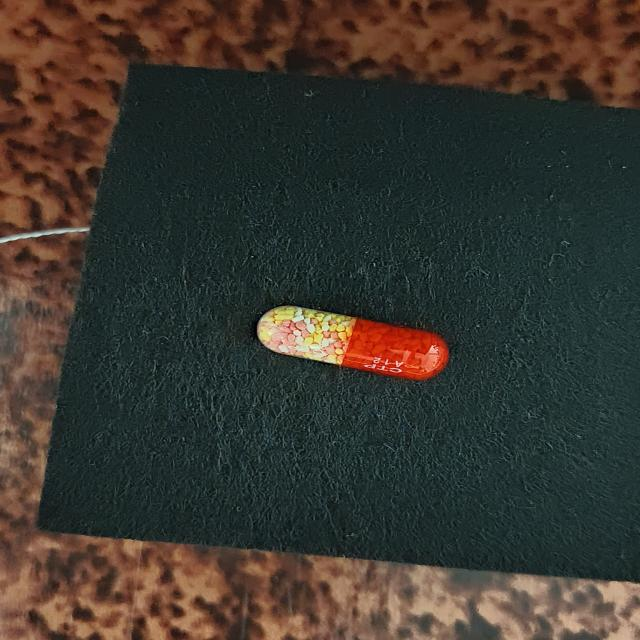Intact Capsule: (257, 306, 449, 380)
